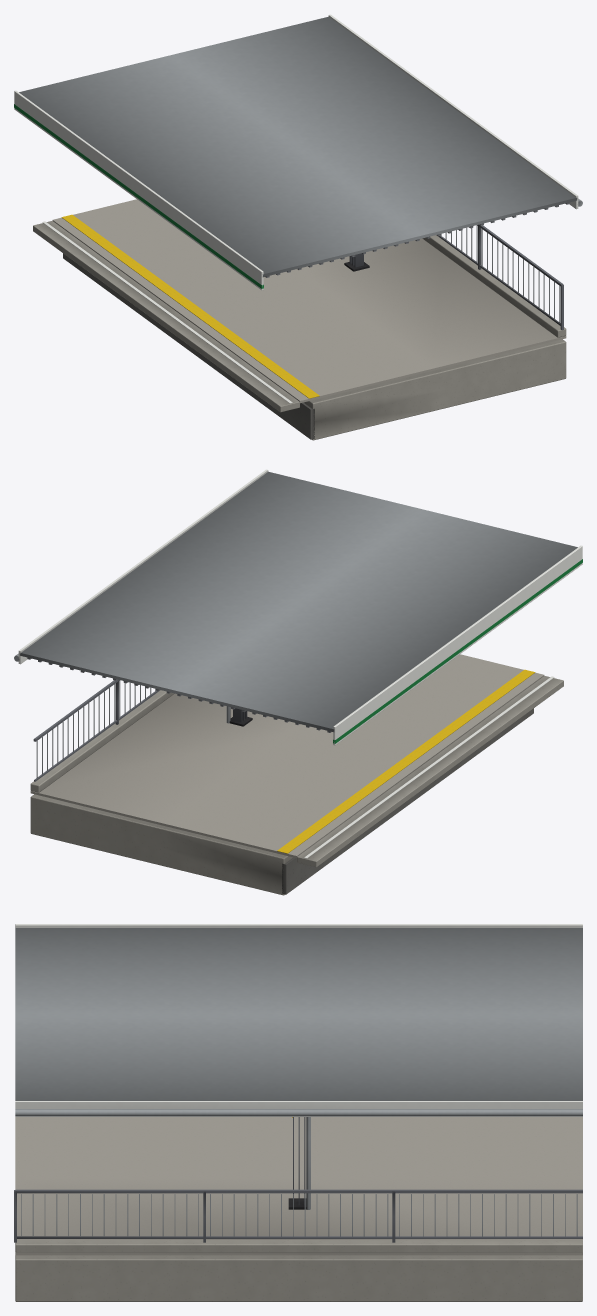
The model's file is station_bay.glb.
The picture shows the model from 3 angles, top to bottom: view 1: azimuth 30°, elevation 25°; view 2: azimuth 150°, elevation 25°; view 3: azimuth 270°, elevation 25°; orthographic projection. The views are drawn at different scales.
Visible parts, largest first — view 1: station_bay_galvanised, surface, station_bay_concrete, station_bay_paint_white, tactile, refuge_wall, station_bay_paint_grey, fascia_band; view 2: station_bay_galvanised, surface, station_bay_concrete, station_bay_paint_white, tactile, refuge_wall, station_bay_paint_grey, fascia_band; view 3: station_bay_galvanised, surface, station_bay_concrete, station_bay_paint_white, station_bay_paint_grey.
Boxes of the visible parts, x1,y1,x2,y2 form: station_bay_galvanised: (19,16,582,323); surface: (52,199,566,403); station_bay_concrete: (33,221,566,440); station_bay_paint_white: (14,14,578,403); tactile: (61,214,319,398); refuge_wall: (63,253,314,439); station_bay_paint_grey: (349,224,563,330); fascia_band: (14,104,263,288); station_bay_galvanised: (14,471,577,778); surface: (30,654,544,858); station_bay_concrete: (30,676,563,895); station_bay_paint_white: (18,469,582,858); tactile: (277,669,535,853); refuge_wall: (282,708,533,894); station_bay_paint_grey: (33,679,247,781); fascia_band: (333,559,582,743); station_bay_galvanised: (15,928,582,1236); surface: (15,1117,582,1255); station_bay_concrete: (15,1240,582,1301); station_bay_paint_white: (15,924,582,1116); station_bay_paint_grey: (14,1117,582,1242).
Size of what is drawn, in the model's own units: 8.99 by 4.85 by 12.03.
14 materials, 13 textured.
